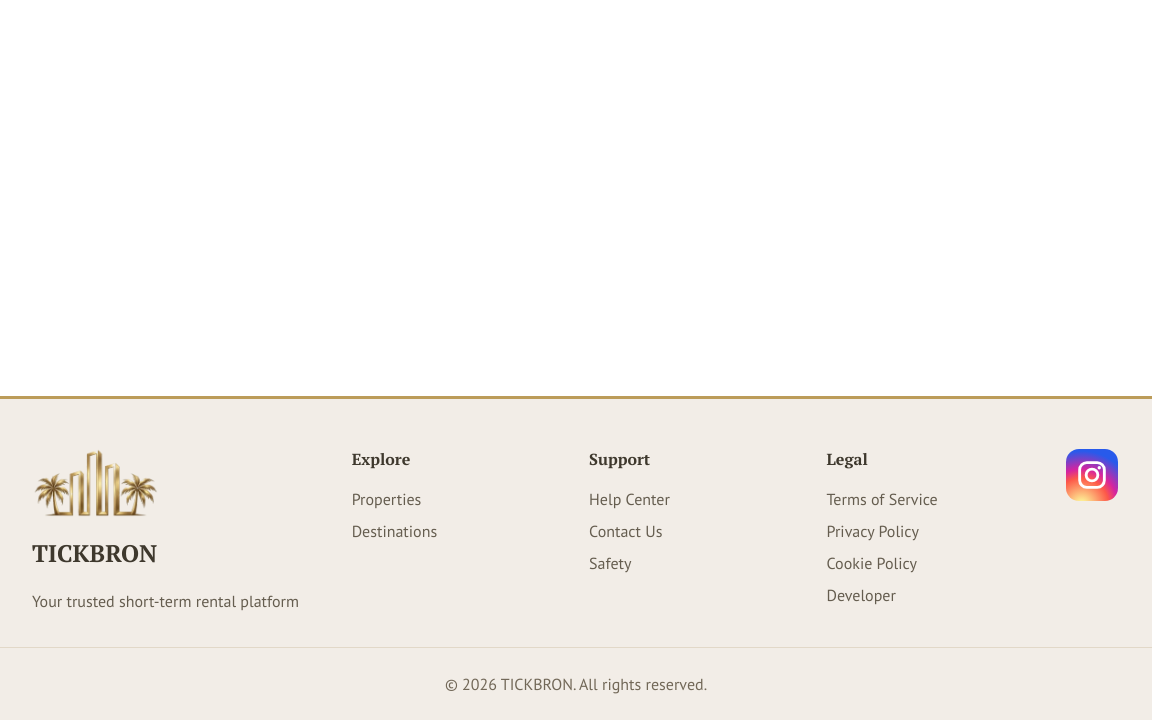
Test case: Footer social links › closes the developer contacts with Escape and when clicking elsewhere
The width and height of the screenshot is (1152, 720).
Step 1. Click the button with aria-label "Contact the developer" → coordinates (861, 594), box [826,582,896,606]
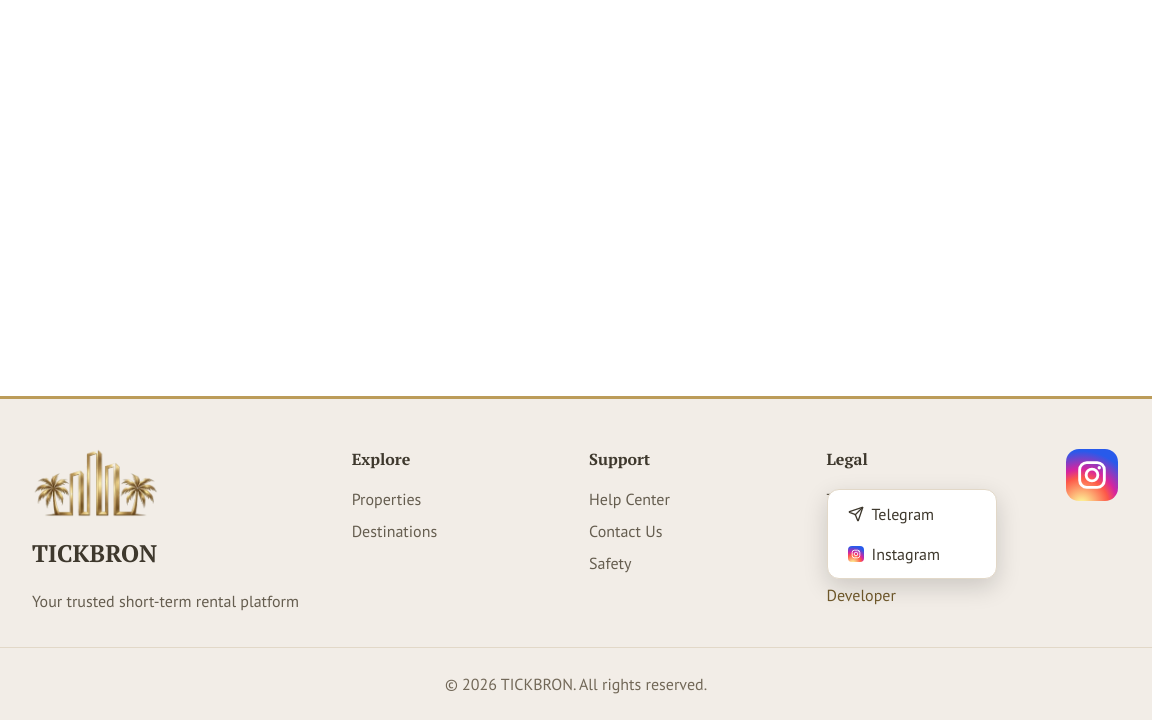
Step 2. Press Escape
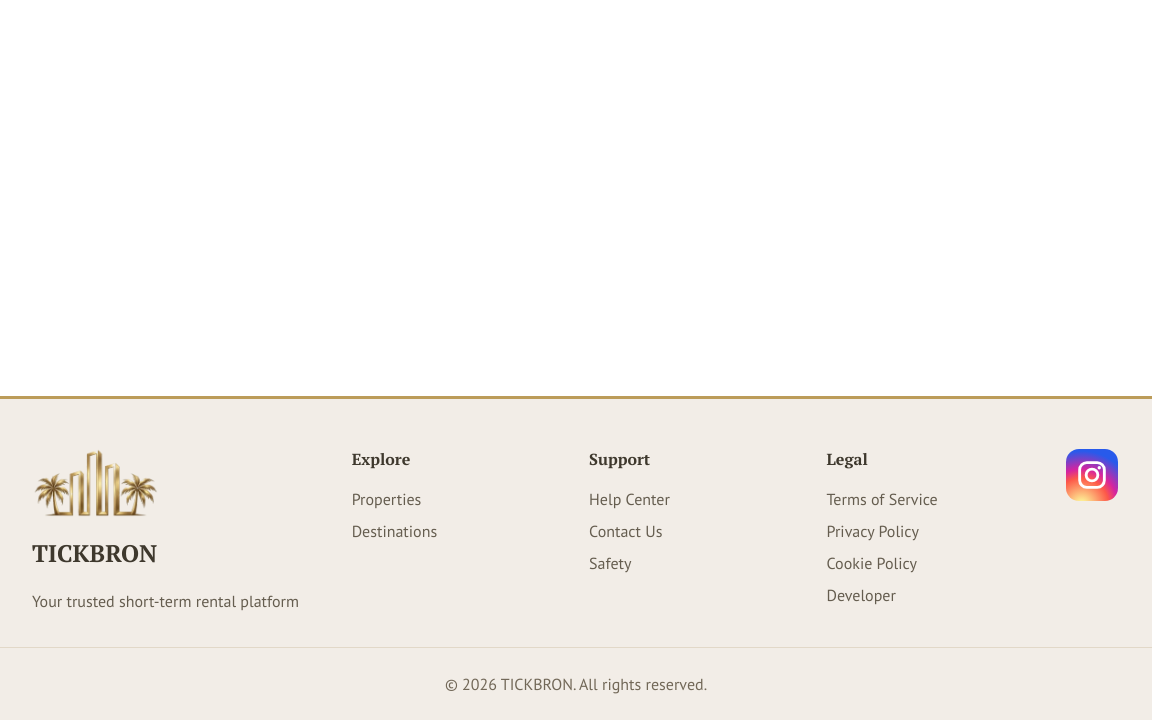
Result: the link "Telegram" is gone
Step 3. Click the button with aria-label "Contact the developer" → coordinates (861, 594), box [826,582,896,606]
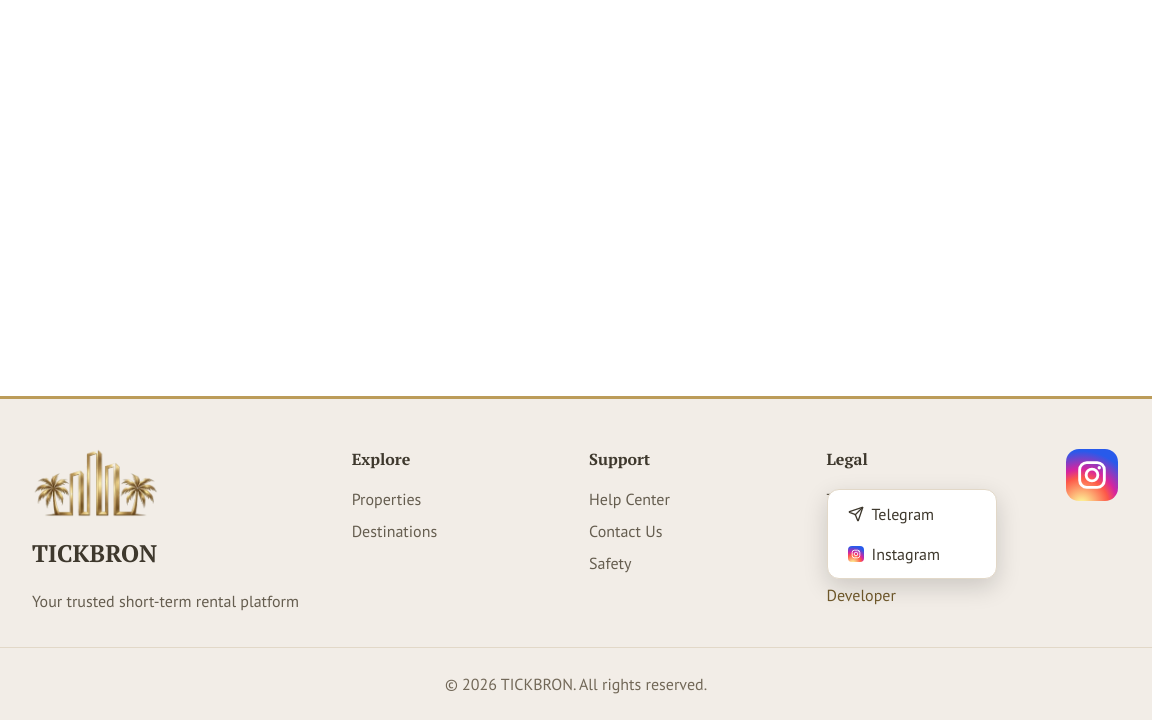
Step 4. Press the mouse on the element that starts with "TICKBRON" → coordinates (576, 360), box [0,0,1151,719]
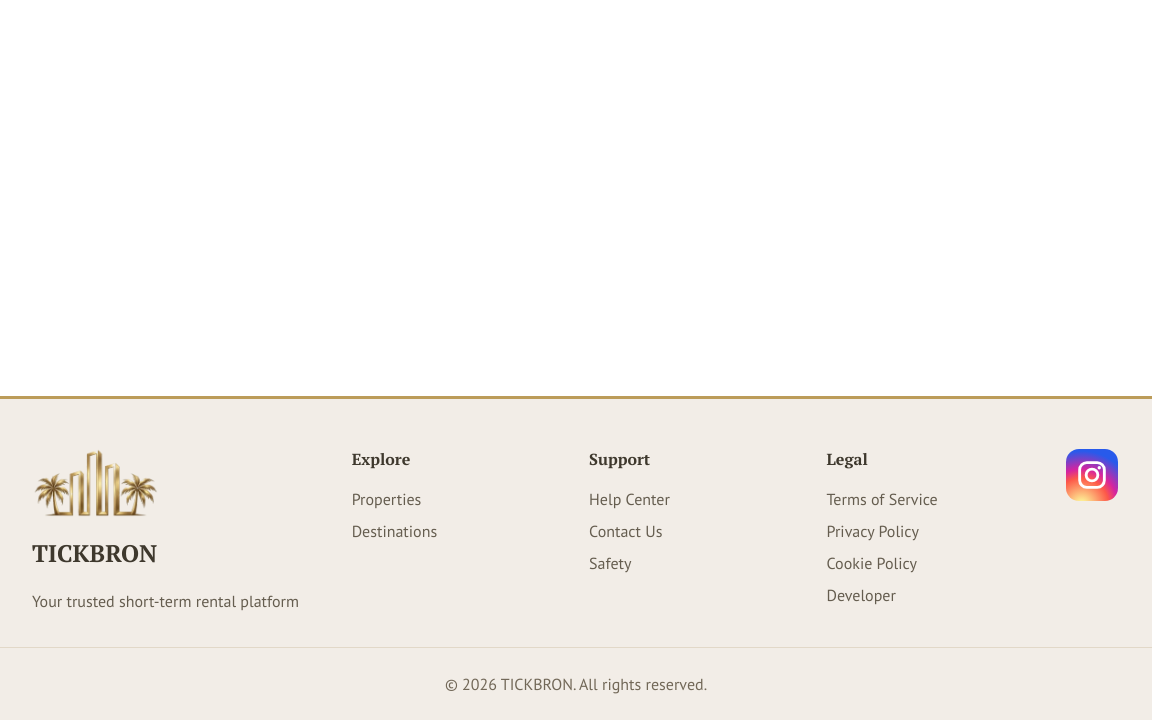
Result: the link "Telegram" is gone
